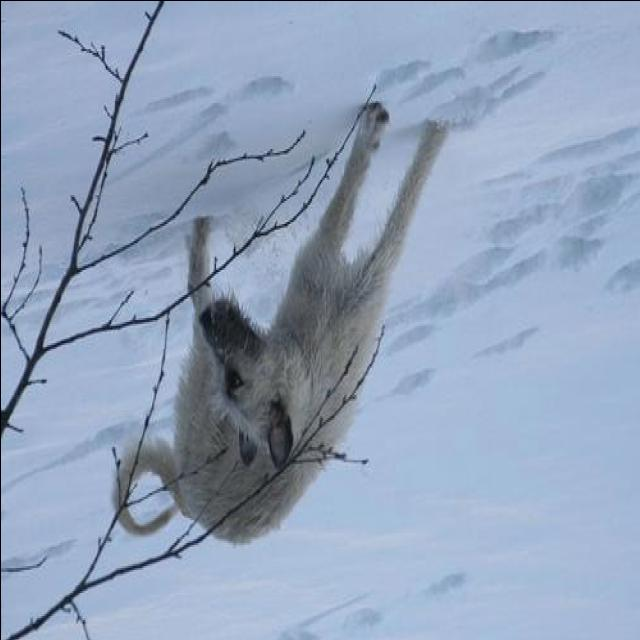irish_wolfhound: (112, 100, 450, 548)
